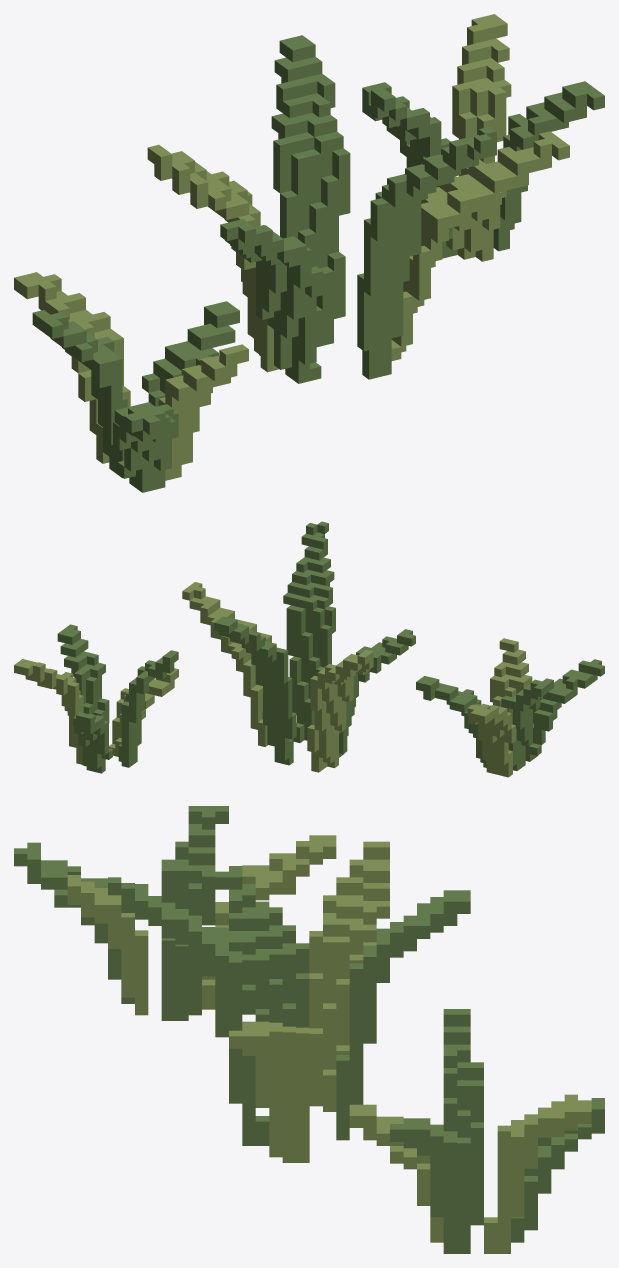
The model's file is grass_tuft_v2_species1_near.glb.
3 views of the same model, one above another, from view 1: azimuth 30°, elevation 25°; view 2: azimuth 150°, elevation 25°; view 3: azimuth 270°, elevation 25° (orthographic). The views are drawn at different scales.
Parts seen in each view (by area): view 1: grass_tuft_v2_species1_near; view 2: grass_tuft_v2_species1_near; view 3: grass_tuft_v2_species1_near.
Part boxes in pixels (x1,y1,x2,y2): grass_tuft_v2_species1_near: (14, 14, 604, 492); grass_tuft_v2_species1_near: (14, 521, 604, 777); grass_tuft_v2_species1_near: (14, 806, 604, 1253).
Bounding box in the file's own units: 1.78 × 0.7188 × 1.38.
Materials: 1 (1 with a texture image).
